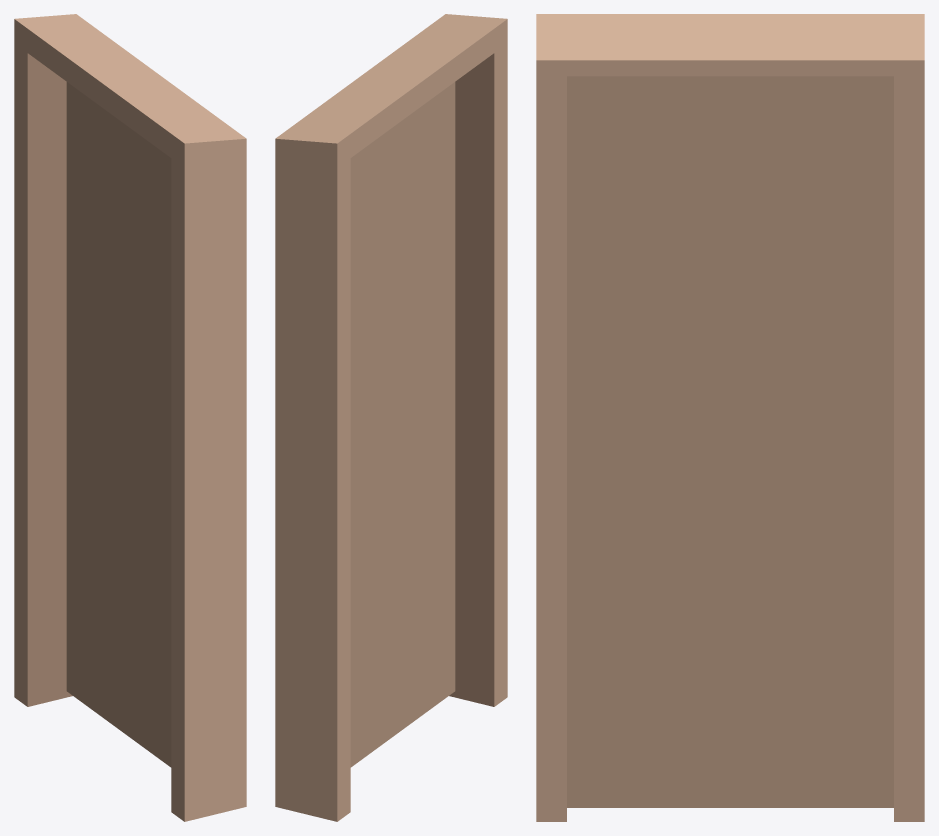
The model's file is Door Frame 1.fbx.
3 renders of one model, left to right at view 1: azimuth 30°, elevation 25°; view 2: azimuth 150°, elevation 25°; view 3: azimuth 270°, elevation 25°, orthographic. The views are drawn at different scales.
Visible parts, largest first — view 1: Door Frame 1, Door 1; view 2: Door Frame 1, Door 1; view 3: Door 1, Door Frame 1.
Part boxes in pixels (bbox=[...]): Door Frame 1: bbox=[14, 14, 246, 821]; Door 1: bbox=[66, 82, 171, 767]; Door Frame 1: bbox=[275, 14, 507, 821]; Door 1: bbox=[350, 82, 455, 767]; Door 1: bbox=[567, 76, 893, 807]; Door Frame 1: bbox=[536, 14, 924, 821].
Size of the model in its own units: 0.2032 by 2.12 by 0.9652.
